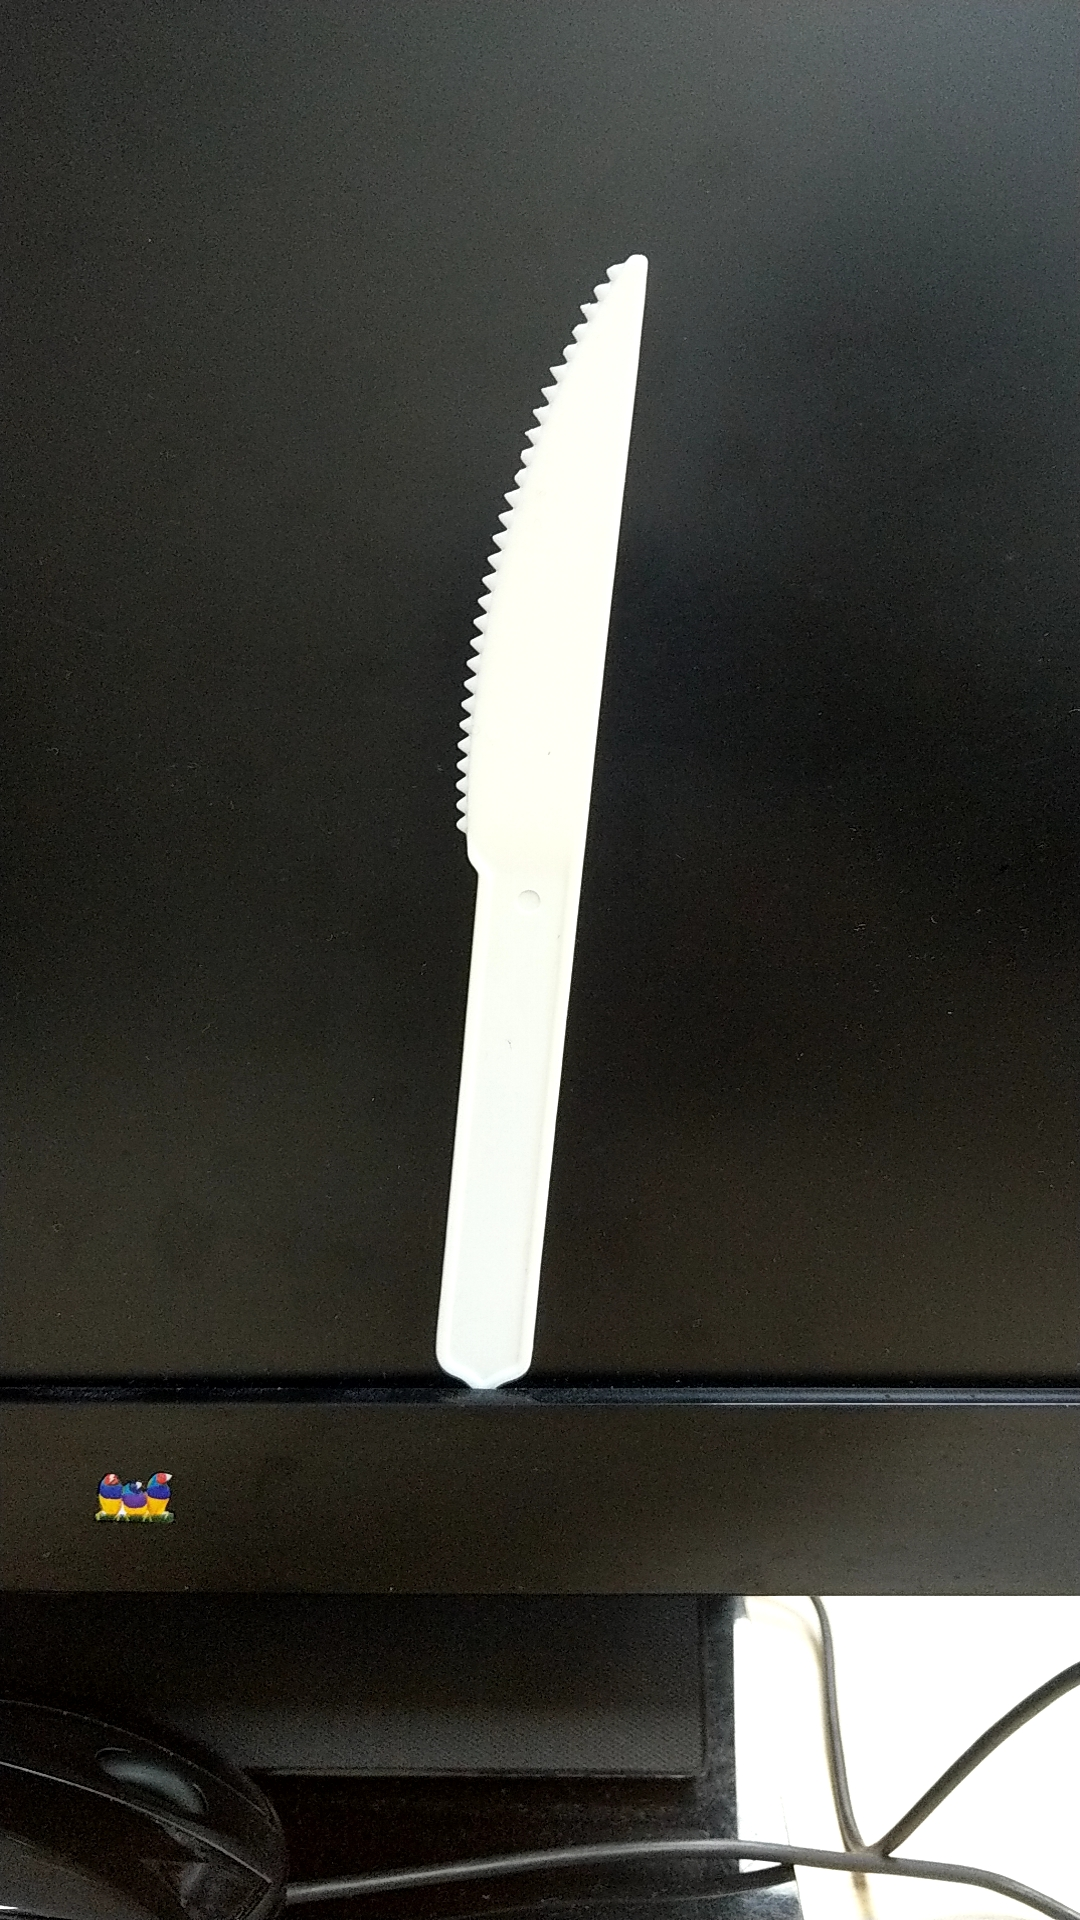knife: (411, 200, 673, 1386)
